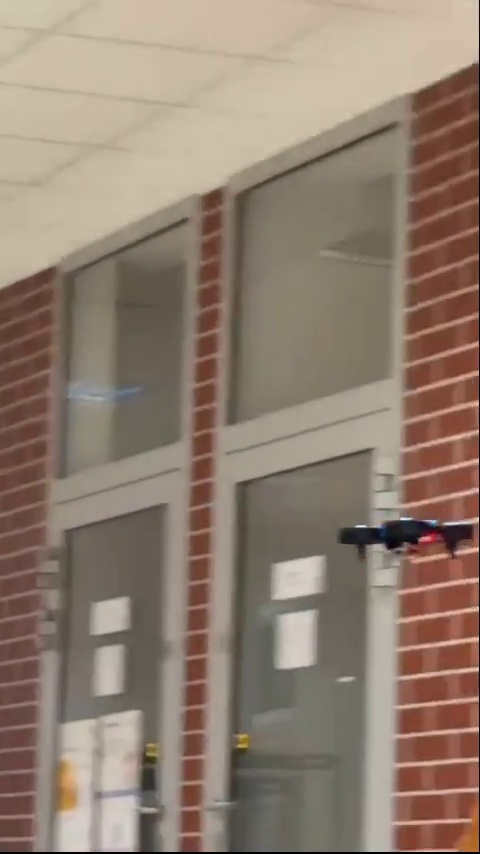drone: (337, 512, 475, 560)
